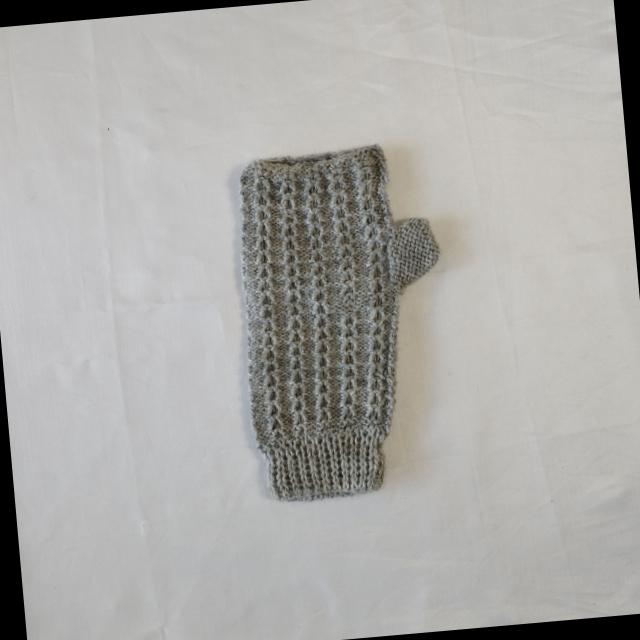Guante: (227, 139, 460, 506)
